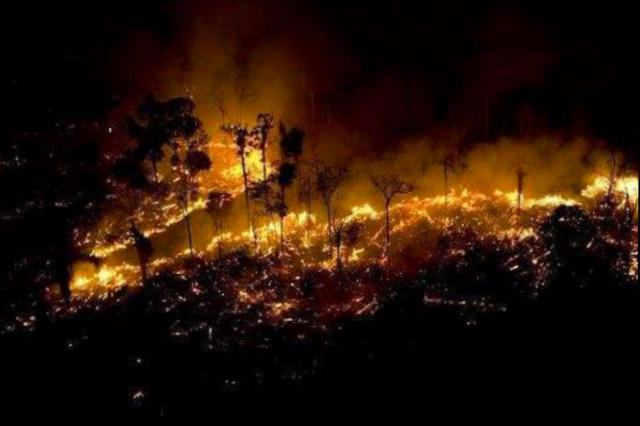fire: (73, 109, 637, 337)
